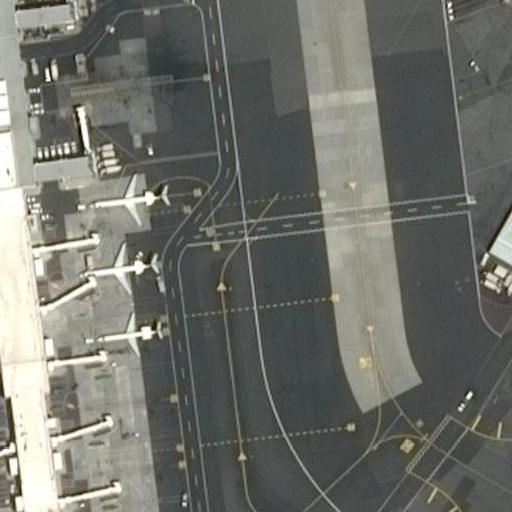Aircraft: (88, 171, 168, 225), (81, 244, 157, 297), (91, 316, 167, 358)
